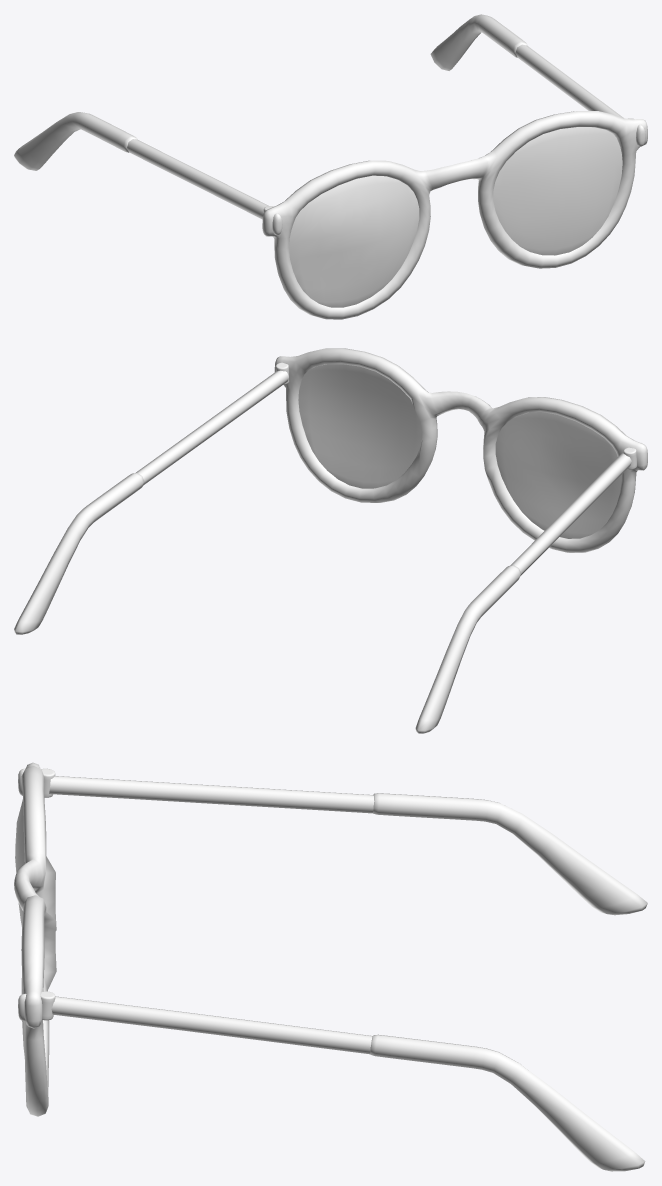
The model's file is neon-visor.glb.
3 views of the same model, one above another, from view 1: azimuth 30°, elevation 25°; view 2: azimuth 150°, elevation 25°; view 3: azimuth 270°, elevation 25° (orthographic). The views are drawn at different scales.
Parts seen in each view (by area): view 1: Glass, LegB, LegA; view 2: Glass, LegA, LegB; view 3: LegA, LegB, Glass.
Boxes of the visible parts, x1,y1,x2,y2 form: Glass: (262, 111, 647, 319); LegB: (14, 112, 274, 219); LegA: (430, 14, 634, 119); Glass: (274, 348, 647, 552); LegA: (14, 362, 289, 634); LegB: (415, 447, 636, 733); LegA: (40, 991, 645, 1171); LegB: (41, 768, 647, 915); Glass: (14, 762, 56, 1116).
Size of the model in its own units: 0.1739 by 0.0595 by 0.1755.
Materials: 1 (1 with a texture image).
